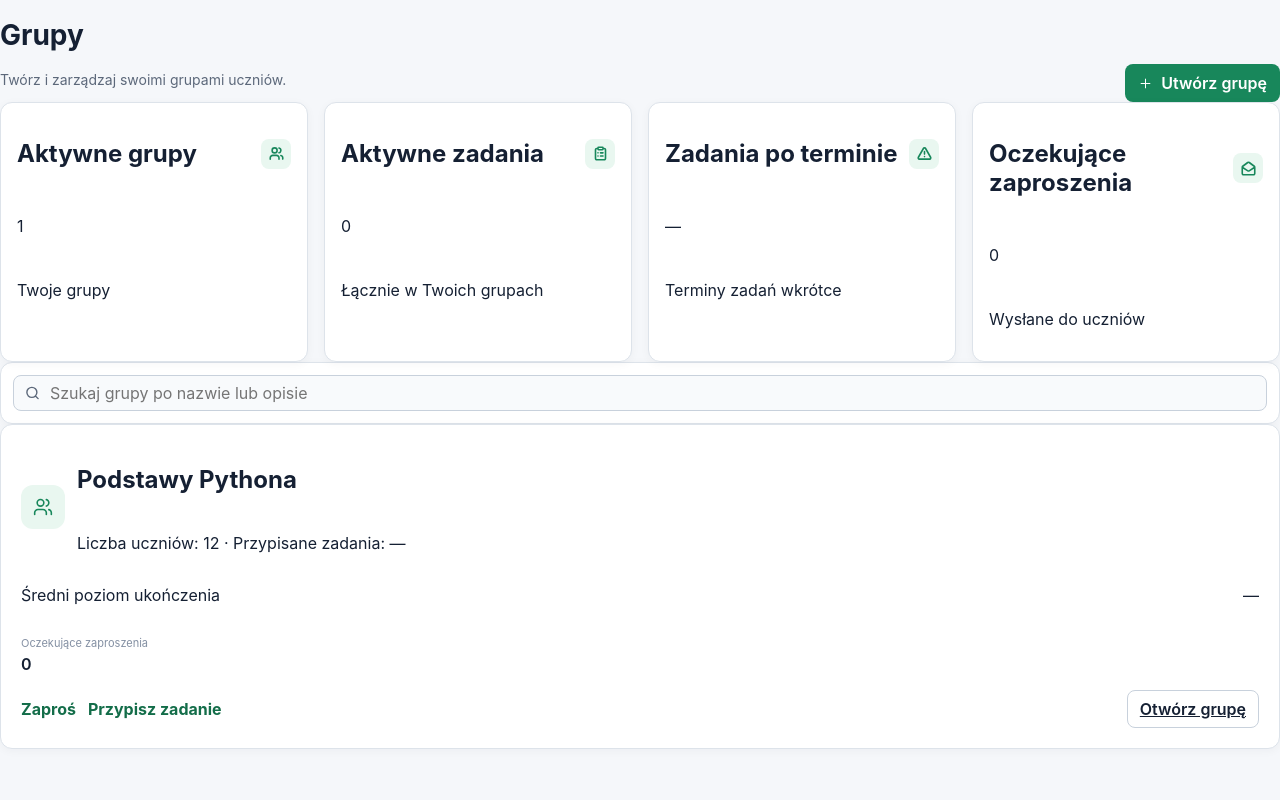
it: assigns a task through the group button at /teacher/groups
The width and height of the screenshot is (1280, 800).
Click the button "Przypisz zadanie".
click(155, 709)  # box 88,693 -> 222,725
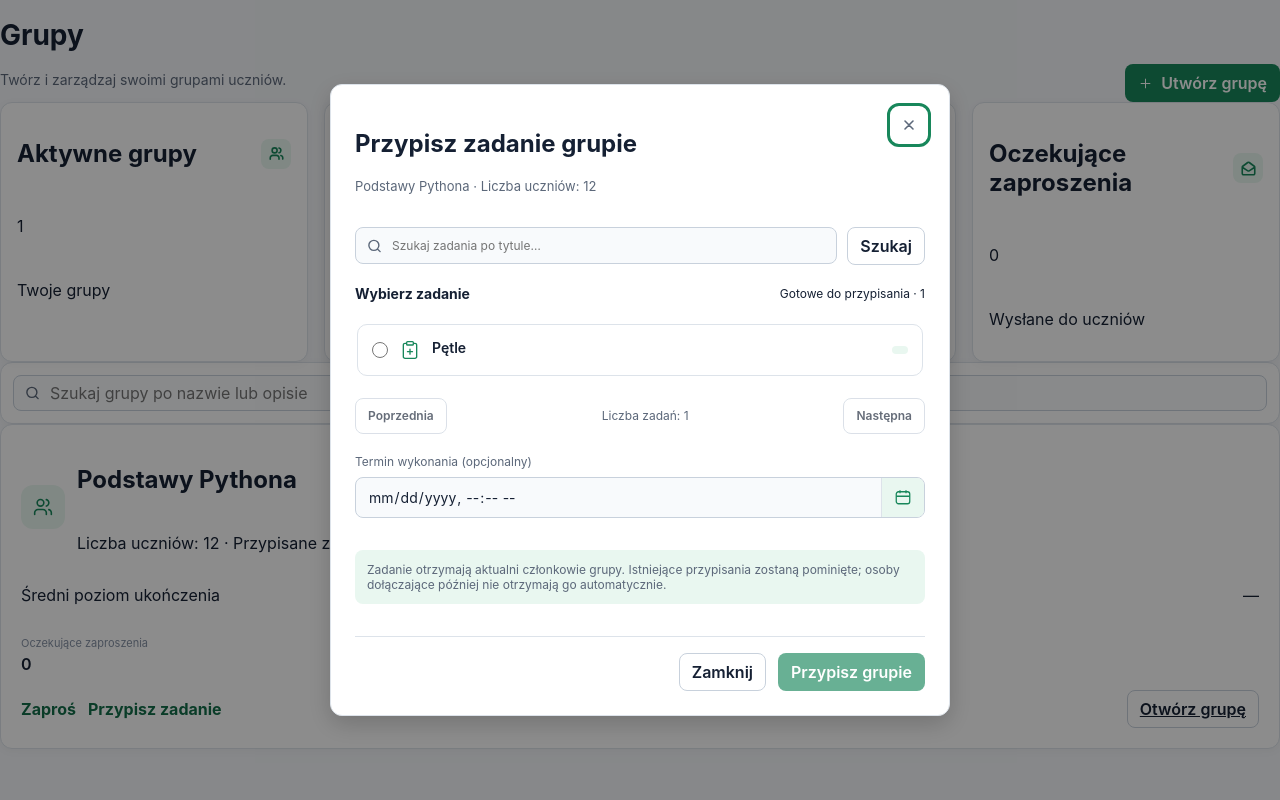
Expected: the text "Podstawy Pythona · Liczba uczniów: 12" is shown, 355,178 -> 637,194
Expected: the radio button labelled "Pętle" is shown
Click the radio button labelled "Pętle".
click(380, 350)  # box 372,342 -> 388,358
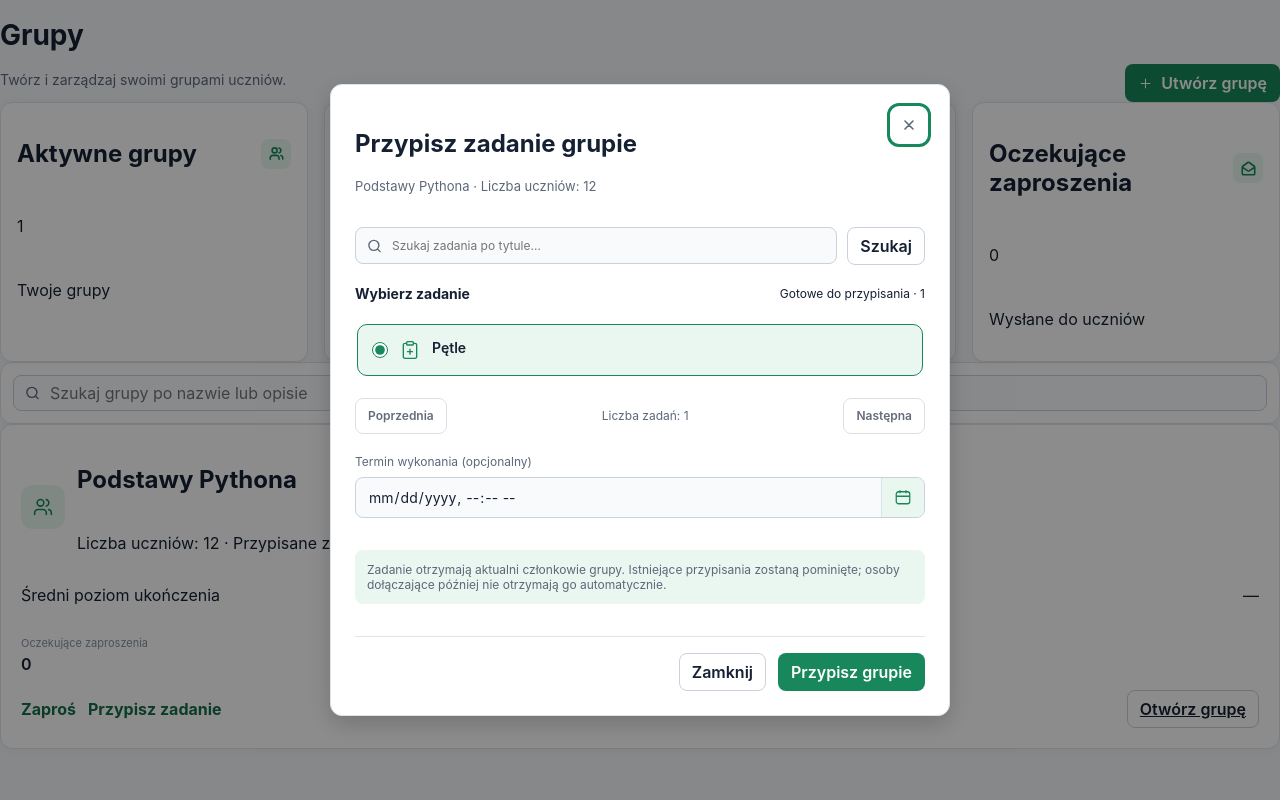
Click the button "Przypisz grupie".
click(852, 672)  # box 778,653 -> 925,691
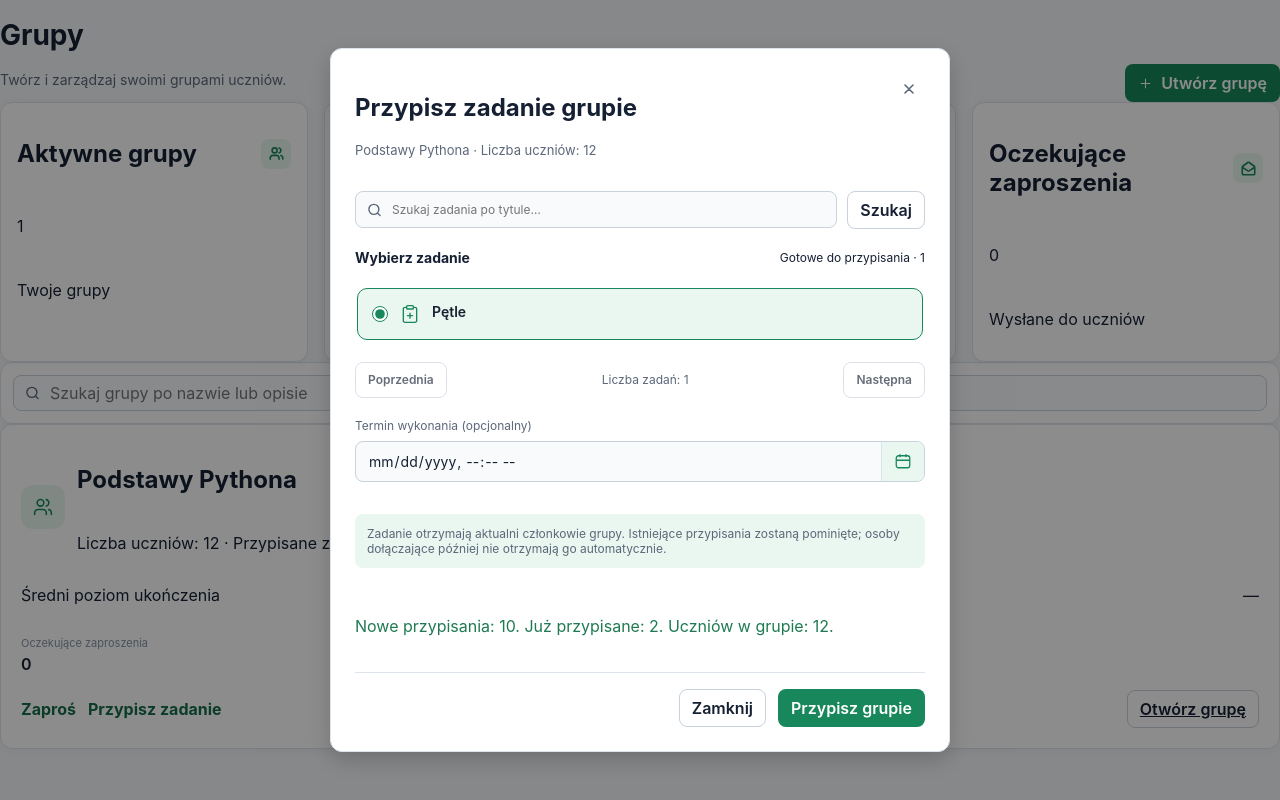
Expected: the text "Nowe przypisania: 10. Już przypisane: 2. Uczniów w grupie: 12." is shown, 355,616 -> 834,636
Click the button "Zamknij".
click(722, 708)  # box 679,689 -> 766,727
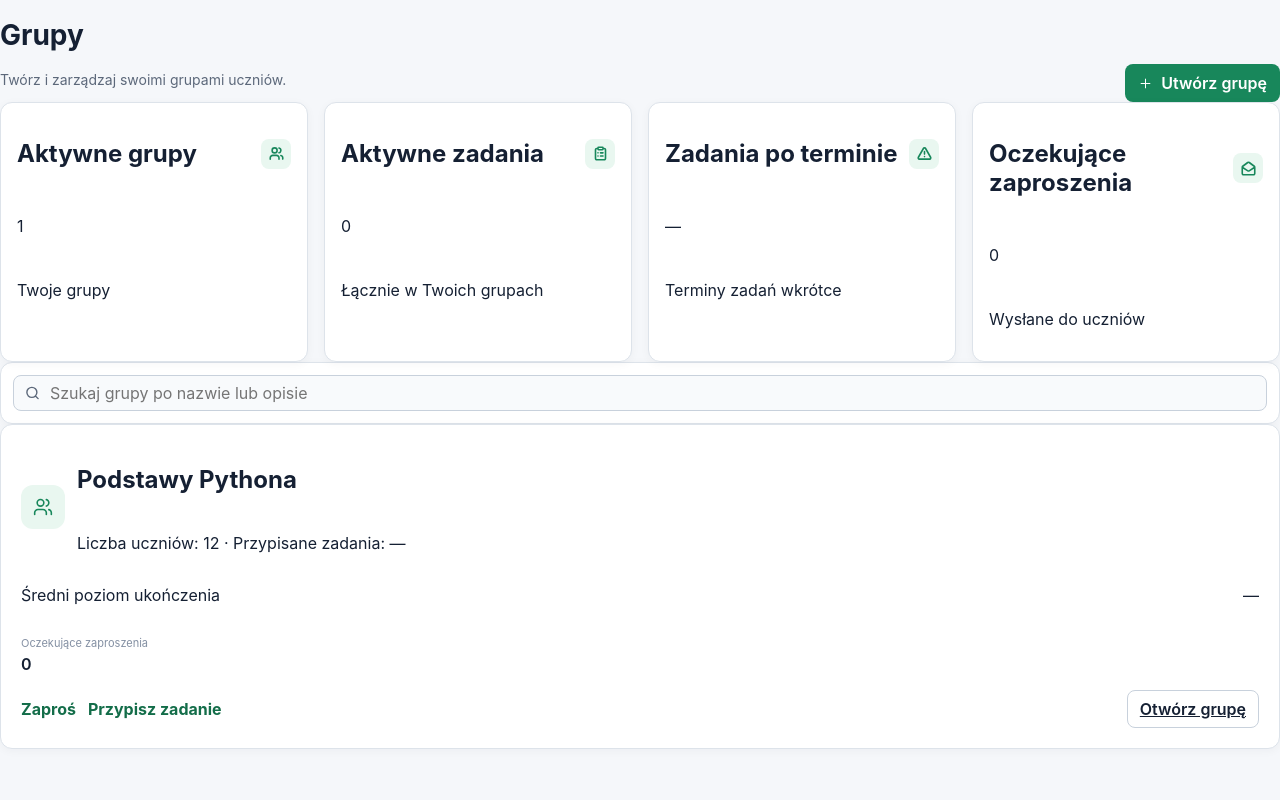
Expected: the dialog is gone
